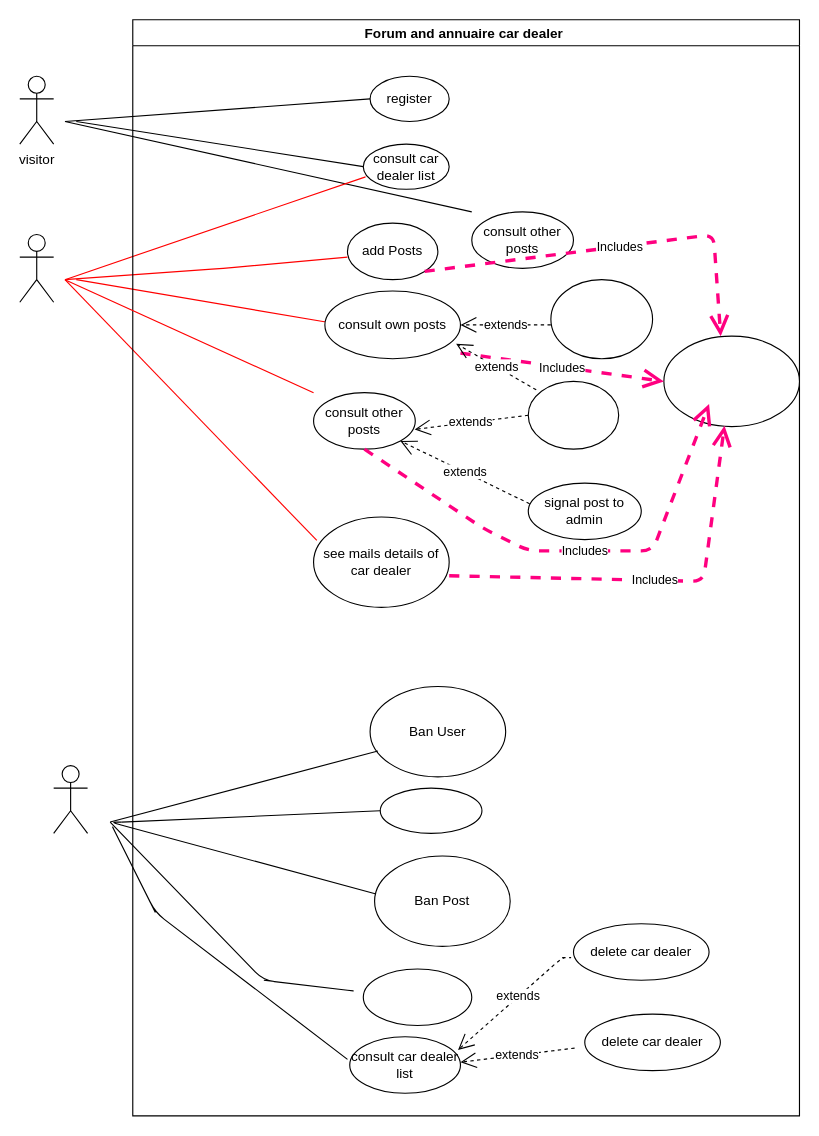
This 819x1136 diagram has some shape labels left out. The centre of each missing label's shape, as x and y in pixels:
add/ car dealer: the point at 417,996
Admin: the point at 70,798
ban or delete comment: the point at 430,810
comment posts: the point at 573,414
modify and delete post: the point at 601,319
Sign in: the point at 731,381
user: the point at 36,267
